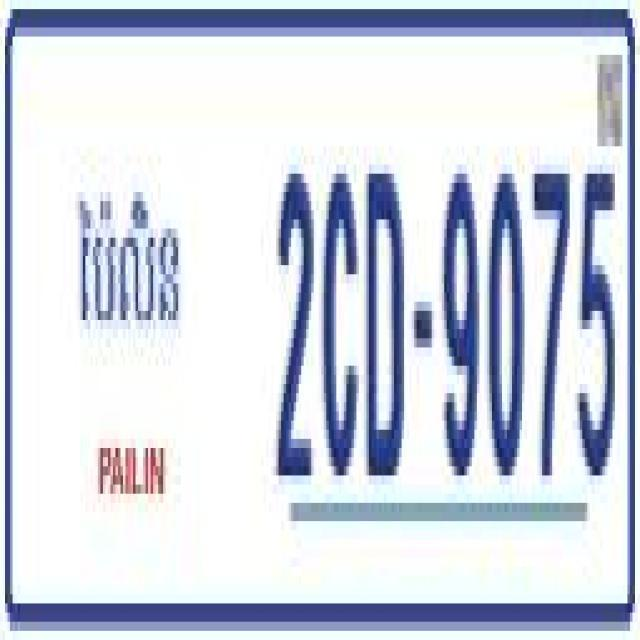Pailin: (73, 174, 184, 353)
